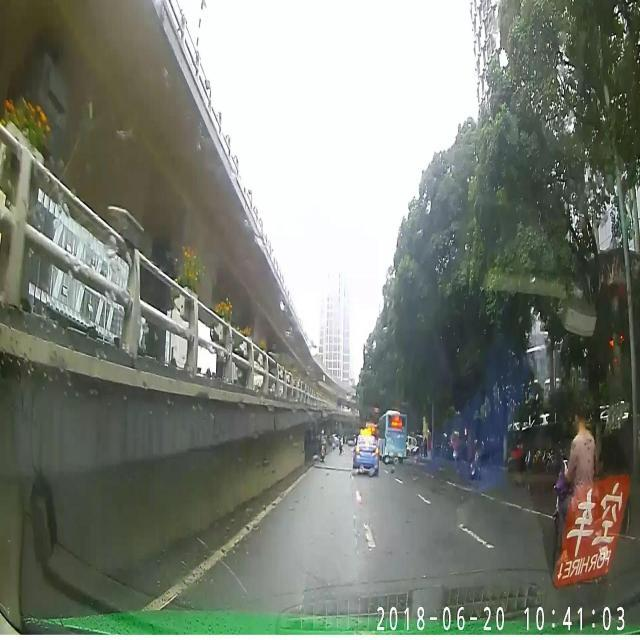car: (375, 408, 408, 463), (352, 427, 380, 477)
